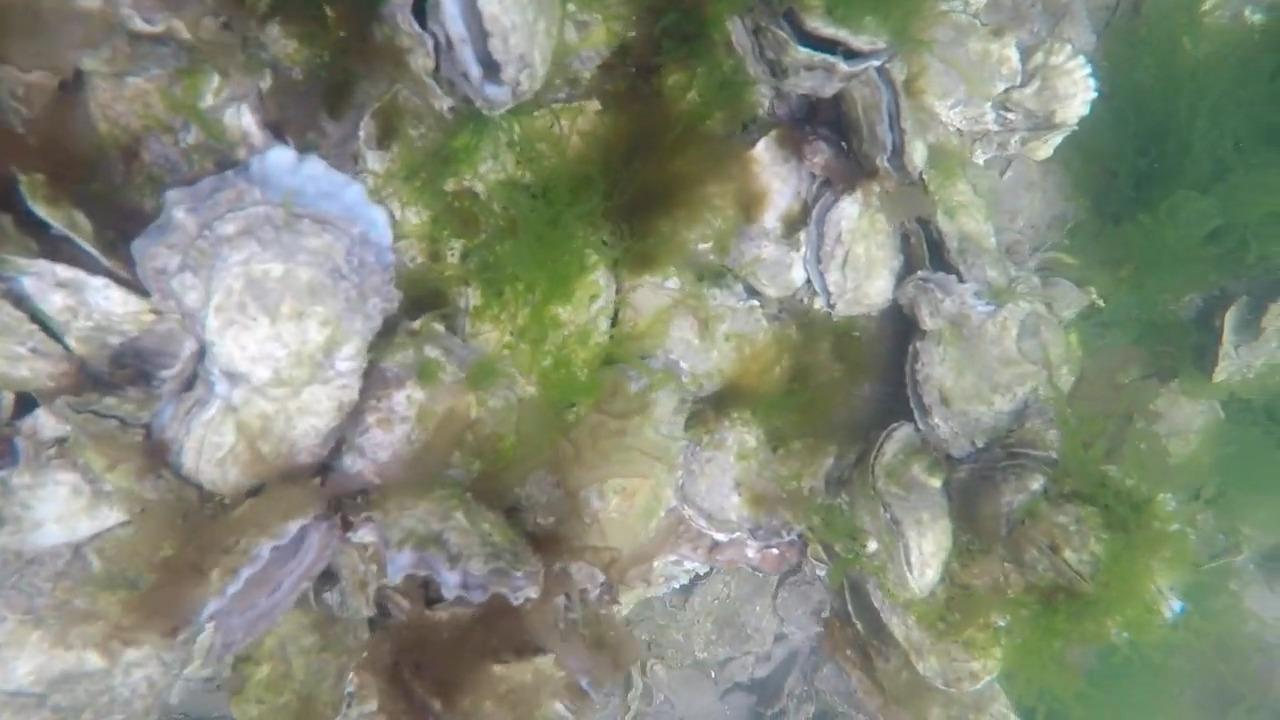Oyster: (126, 152, 397, 497), (133, 150, 396, 485), (896, 274, 1077, 464), (540, 367, 697, 580), (901, 5, 1099, 173), (318, 309, 480, 499), (0, 244, 167, 402), (359, 477, 536, 616), (187, 516, 343, 669), (850, 551, 996, 701), (620, 278, 786, 408), (671, 407, 813, 558), (381, 0, 565, 114), (719, 131, 836, 307), (727, 4, 903, 113), (853, 423, 953, 601), (0, 449, 141, 561), (914, 156, 1023, 299), (803, 181, 909, 320), (988, 488, 1108, 598), (7, 176, 132, 280), (353, 80, 450, 193), (830, 63, 914, 186), (1123, 377, 1227, 474), (535, 2, 625, 95), (1007, 303, 1083, 410), (1207, 289, 1280, 389), (98, 1, 213, 48), (1030, 273, 1103, 331), (211, 95, 275, 158)
